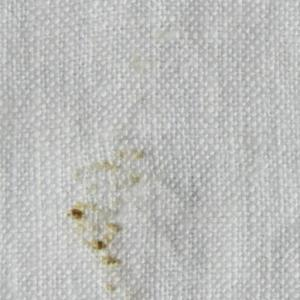Oil Stain: (64, 147, 154, 300)
